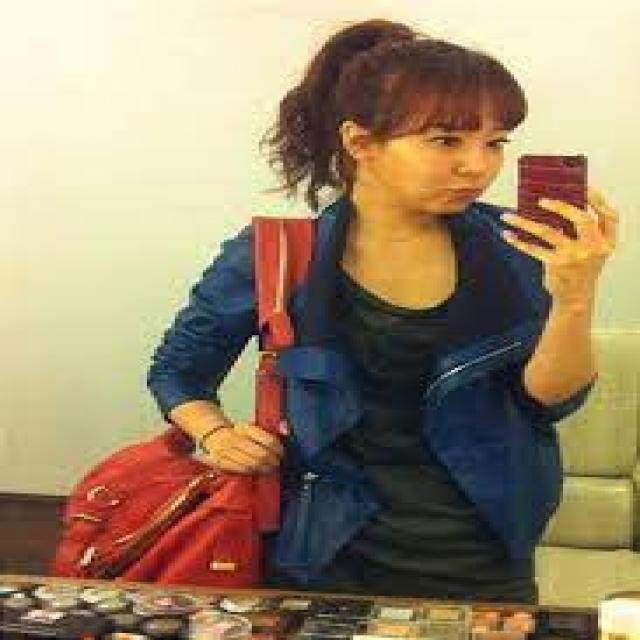Phone: (514, 154, 590, 242)
